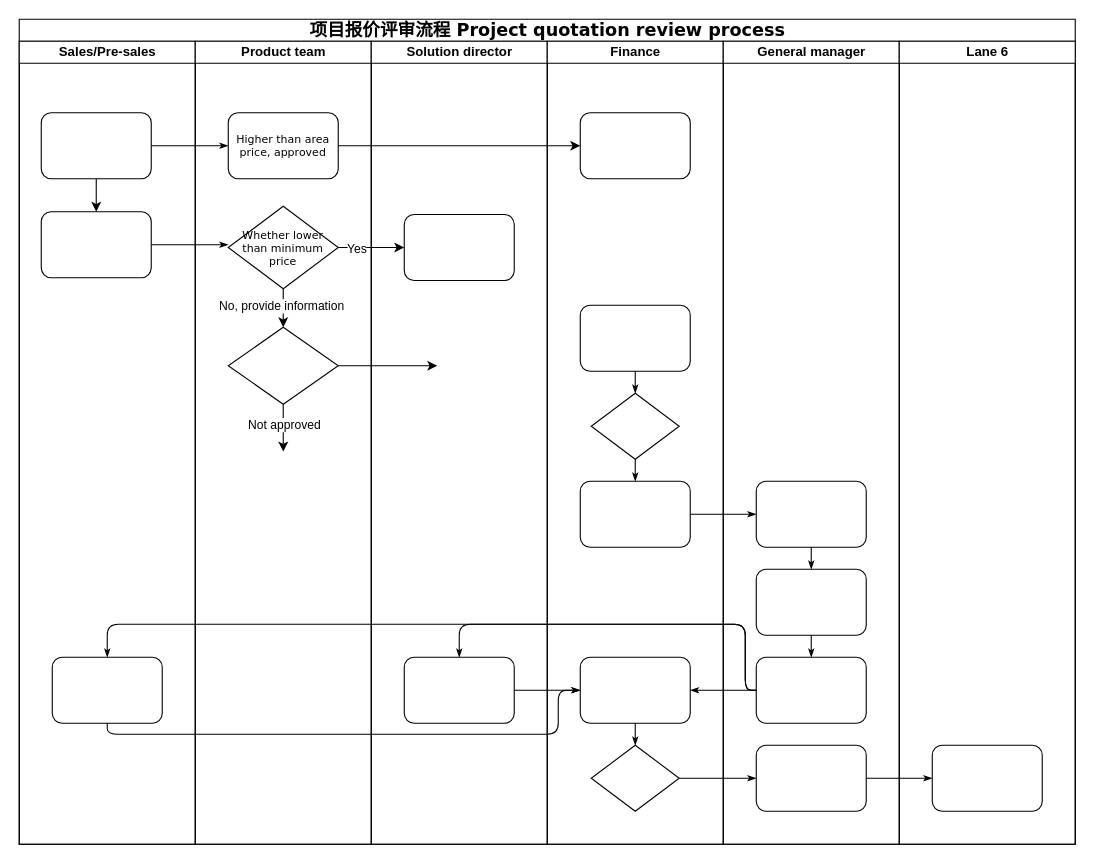
Some shapes in this 1095 by 864 pixel diagram are drawn without their labels. The centre of each missing label's shape, as x and y in pixels:
BOQ confirmed with preliminary order: (x=95, y=145)
Margin calculation: (x=634, y=145)
Quotation lower than Area price: (x=95, y=244)
Review the reason: (x=282, y=365)
